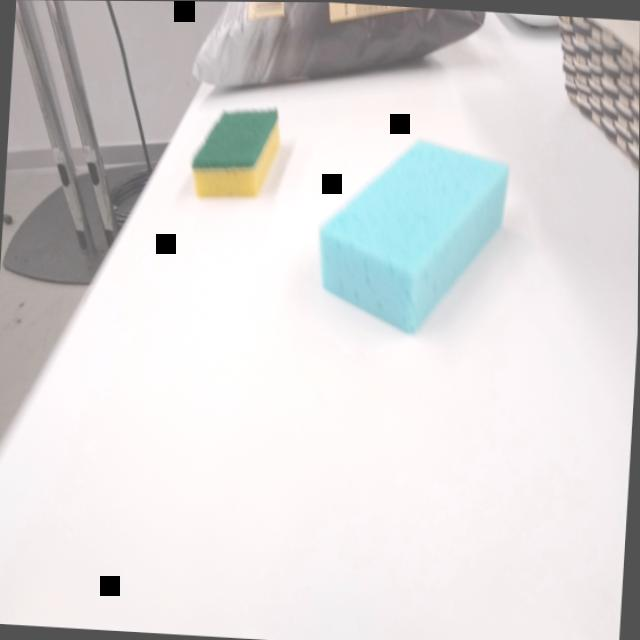scrubby: (189, 100, 286, 205)
sponge_opl: (311, 126, 518, 344)
